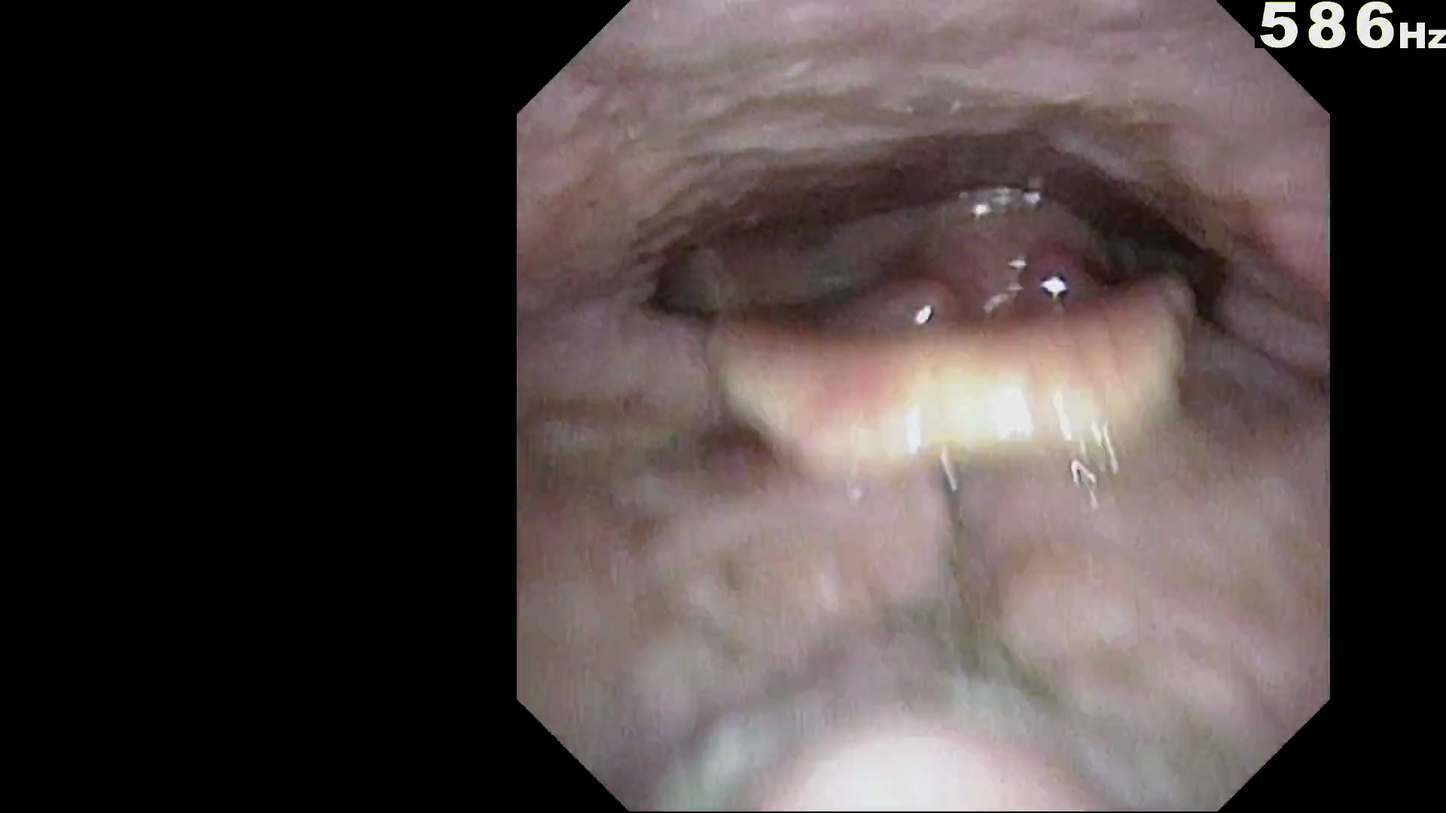epiglottis: (689, 347, 1265, 535)
